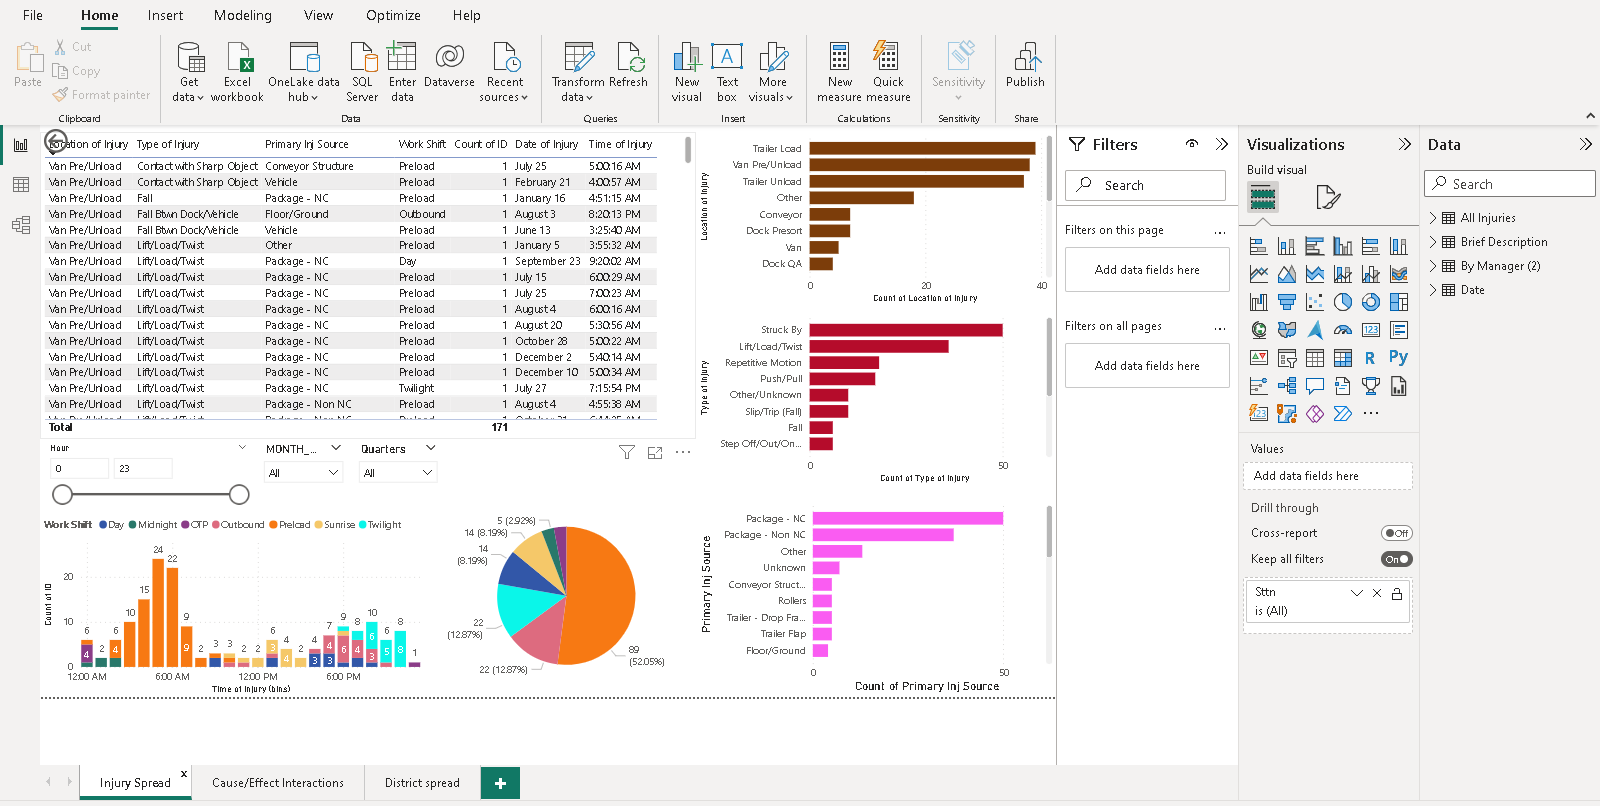

The dashboard page shown, as its layout file describes it:
{"tool":"powerbi","page":{"name":"Injury Spread","canvas":[1280,720],"ordinal":0},"visuals":[{"type":"tableEx","fields":{"Values":["All Injuries.Location of Injury","All Injuries.Type of Injury","All Injuries.Primary Inj Source","All Injuries.Work Shift","CountNonNull(All Injuries.FedEx ID)","All Injuries.Date of Injury","All Injuries.Time of Injury"]},"box":[0,8.6,826.5,386.4],"z":0},{"type":"pieChart","fields":{"Category":["All Injuries.Work Shift"],"Y":["CountNonNull(All Injuries.FedEx ID)"]},"box":[500.5,466,326,254.1],"z":1000},{"type":"slicer","fields":{"Values":["All Injuries.FedEx Yr"]},"box":[392.1,395,118.9,71],"z":2000},{"type":"slicer","fields":{"Values":["Date.MONTH_LABEL"]},"box":[272.3,395,119.9,71],"z":3000},{"type":"slicer","fields":{"Values":["All Injuries.Hour"]},"box":[0,395,272.3,98.8],"z":4000},{"type":"actionButton","box":[0,0,100,40],"z":5000},{"type":"columnChart","fields":{"Category":["All Injuries.Time of Injury (bins)"],"Y":["CountNonNull(All Injuries.FedEx ID)"],"Series":["All Injuries.Work Shift"]},"box":[0,483.2,500.5,236.8],"z":6000},{"type":"barChart","fields":{"Category":["All Injuries.Location of Injury"],"Y":["CountNonNull(All Injuries.Location of Injury)"]},"box":[826.5,0,453.5,229.2],"z":7000},{"type":"barChart","fields":{"Category":["All Injuries.Type of Injury"],"Y":["CountNonNull(All Injuries.Type of Injury)"]},"box":[826.5,229.2,453.5,226.3],"z":8000},{"type":"barChart","fields":{"Category":["All Injuries.Primary Inj Source"],"Y":["CountNonNull(All Injuries.Primary Inj Source)"]},"box":[826.5,466,453.5,254.1],"z":9000}]}

Visuals, with their boxes on the page's 1280x720 design canvas (x1, y1, x2, y2). These are canvas units, not pixel positions in the 1600x806 screenshot, which may show the page scaled, cropped or inside an application window:
tableEx - All Injuries.Location of Injury x All Injuries.Type of Injury: bbox(0, 9, 826, 395)
pieChart - All Injuries.Work Shift x CountNonNull(All Injuries.FedEx ID): bbox(500, 466, 826, 720)
slicer - All Injuries.FedEx Yr: bbox(392, 395, 511, 466)
slicer - Date.MONTH_LABEL: bbox(272, 395, 392, 466)
slicer - All Injuries.Hour: bbox(0, 395, 272, 494)
actionButton: bbox(0, 0, 100, 40)
columnChart - All Injuries.Time of Injury (bins) x CountNonNull(All Injuries.FedEx ID): bbox(0, 483, 500, 720)
barChart - All Injuries.Location of Injury x CountNonNull(All Injuries.Location of Injury): bbox(826, 0, 1280, 229)
barChart - All Injuries.Type of Injury x CountNonNull(All Injuries.Type of Injury): bbox(826, 229, 1280, 456)
barChart - All Injuries.Primary Inj Source x CountNonNull(All Injuries.Primary Inj Source): bbox(826, 466, 1280, 720)
